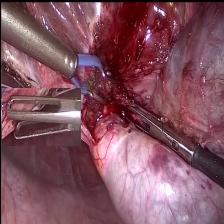Bipolar: (46, 31, 129, 108)
Grasper: (113, 88, 195, 162), (0, 87, 80, 144)
